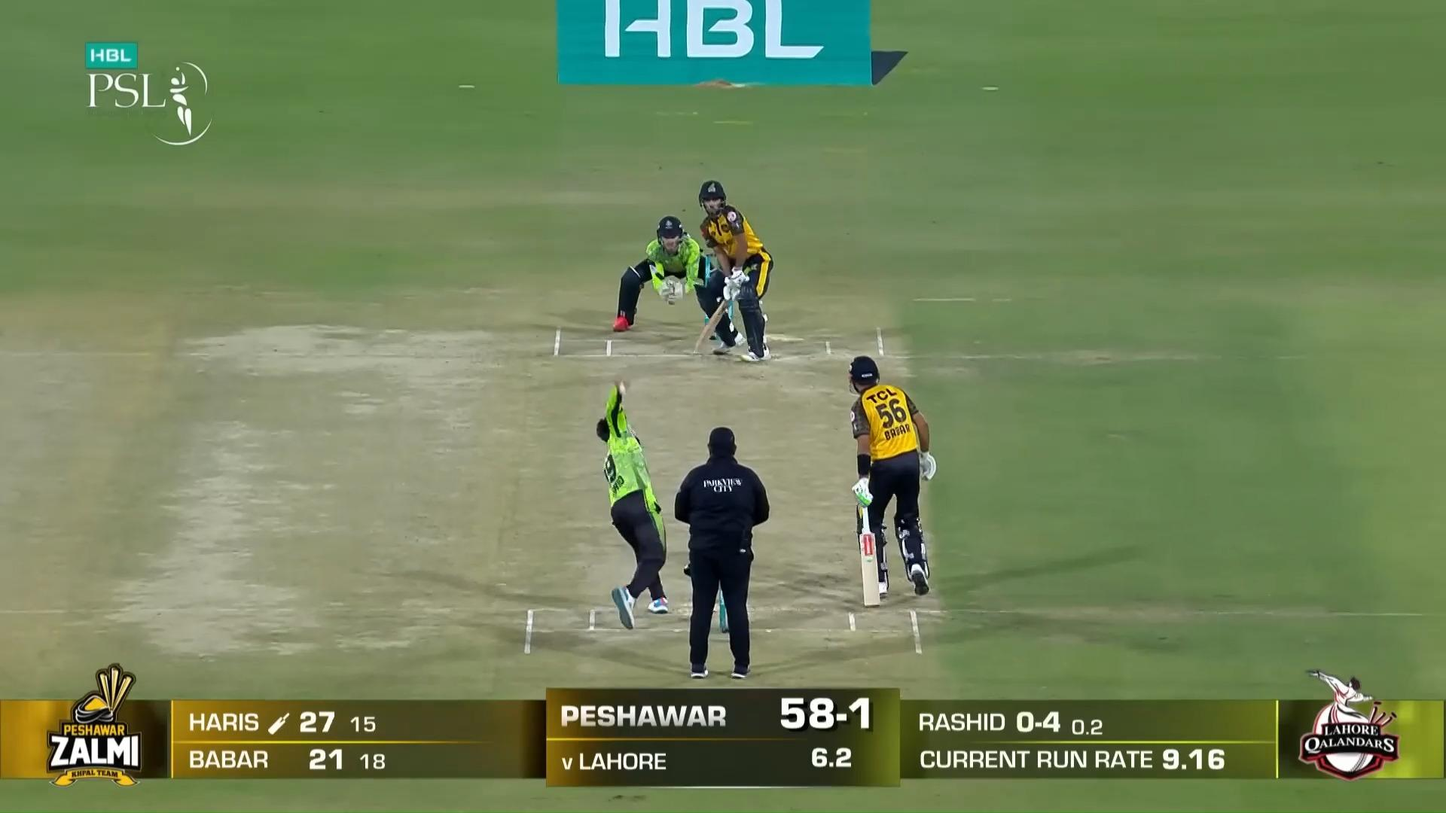batsman: (694, 180, 773, 363)
